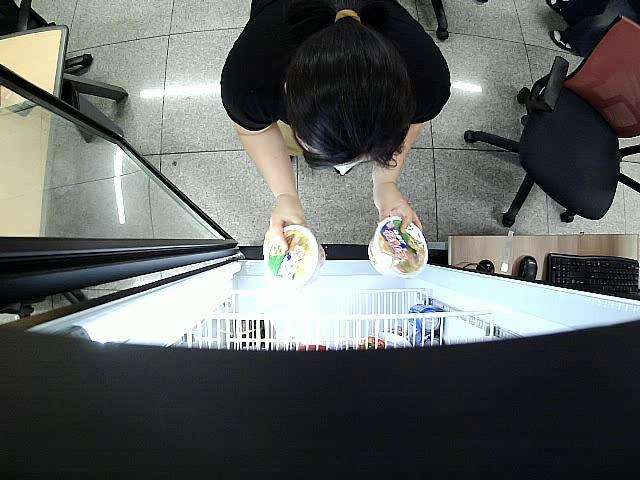00_hand: (373, 186, 423, 238), (266, 198, 307, 255)
09_yukGaeJang: (263, 225, 325, 286), (365, 219, 426, 277)
